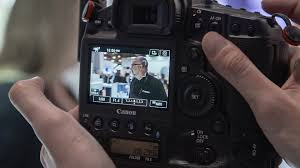camera: (81, 5, 277, 159)
